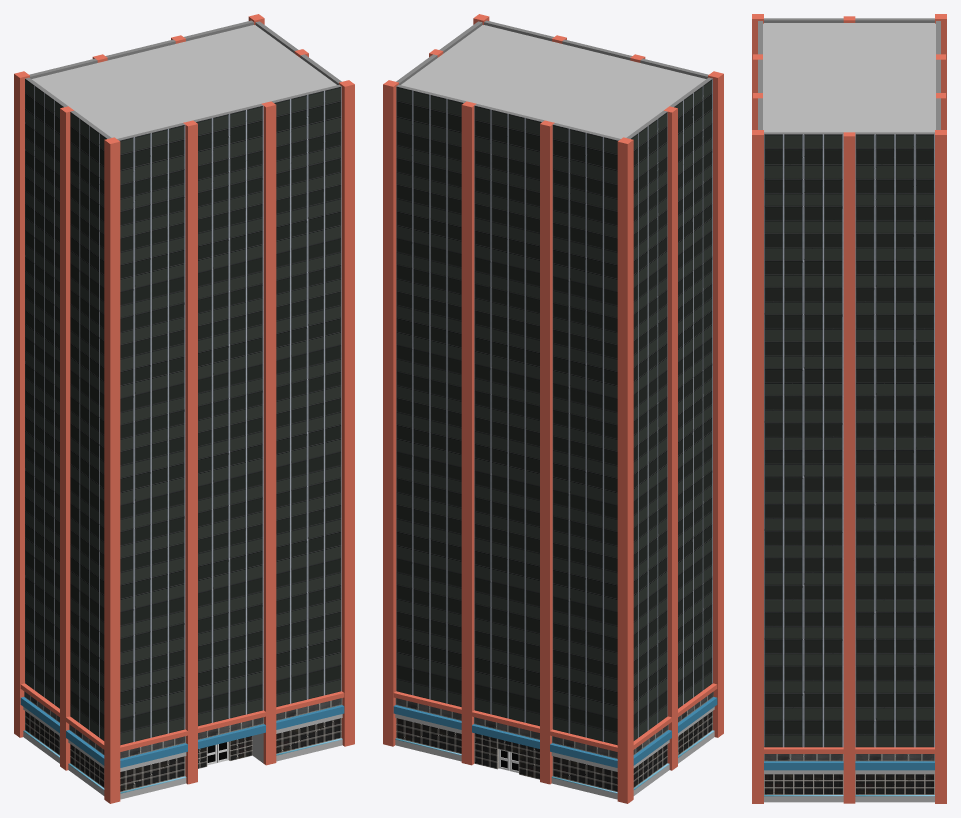
3 views of the same model, side by side, from view 1: azimuth 30°, elevation 25°; view 2: azimuth 150°, elevation 25°; view 3: azimuth 270°, elevation 25° (orthographic).
Parts seen in each view (by area): view 1: Building; view 2: Building; view 3: Building.
Part boxes in pixels (x1,y1,x2,y2): Building: [14, 14, 354, 803]; Building: [383, 14, 723, 803]; Building: [752, 14, 946, 803].
Size of what is drawn, in the model's own units: 28.8 by 74.2 by 19.6.
